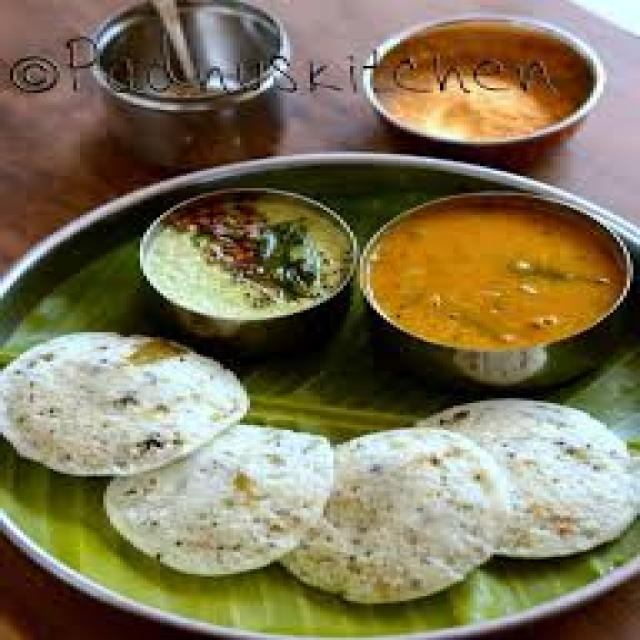IDLI: (270, 424, 520, 615), (0, 329, 260, 485), (98, 423, 335, 577), (423, 393, 637, 559)
